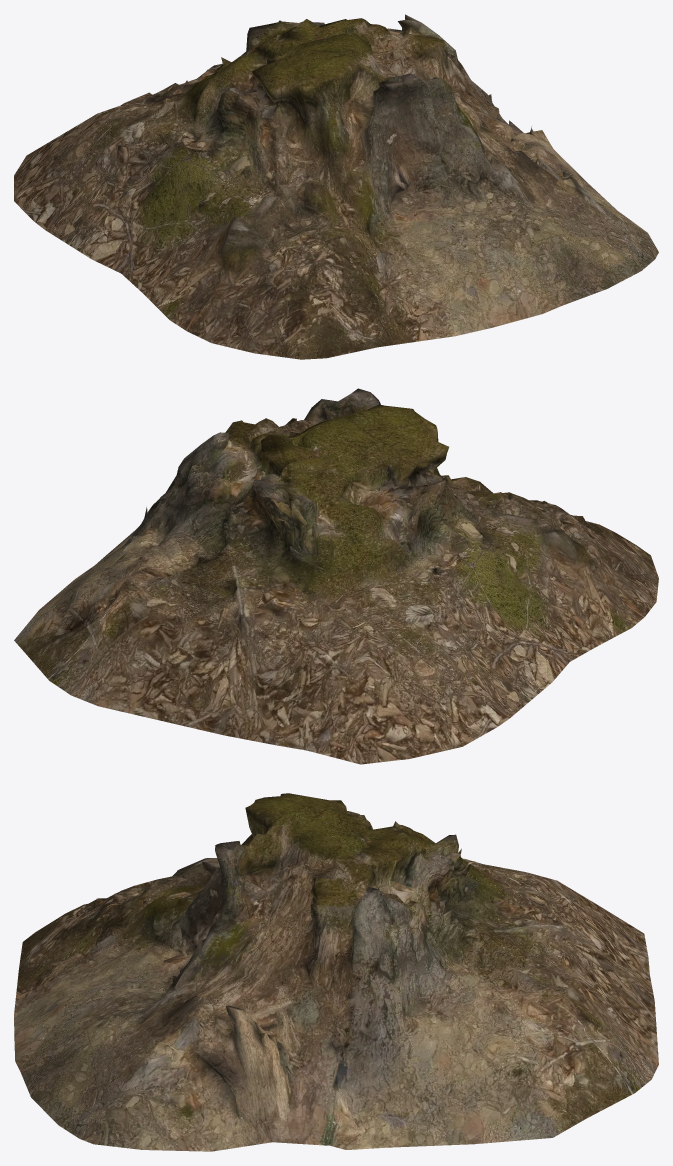
Rendered from tree_stump_01_lod.phone.glb.
3 views of the same model, one above another, from view 1: azimuth 30°, elevation 25°; view 2: azimuth 150°, elevation 25°; view 3: azimuth 270°, elevation 25° (orthographic). The views are drawn at different scales.
Parts seen in each view (by area): view 1: tree_stump_01; view 2: tree_stump_01; view 3: tree_stump_01.
Part boxes in pixels (<box>): tree_stump_01: <box>14,14,658,359</box>; tree_stump_01: <box>14,388,658,764</box>; tree_stump_01: <box>14,793,658,1151</box>.
Bounding box in the file's own units: 1.43 × 0.571 × 1.59.
Materials: 1 (1 with a texture image).
